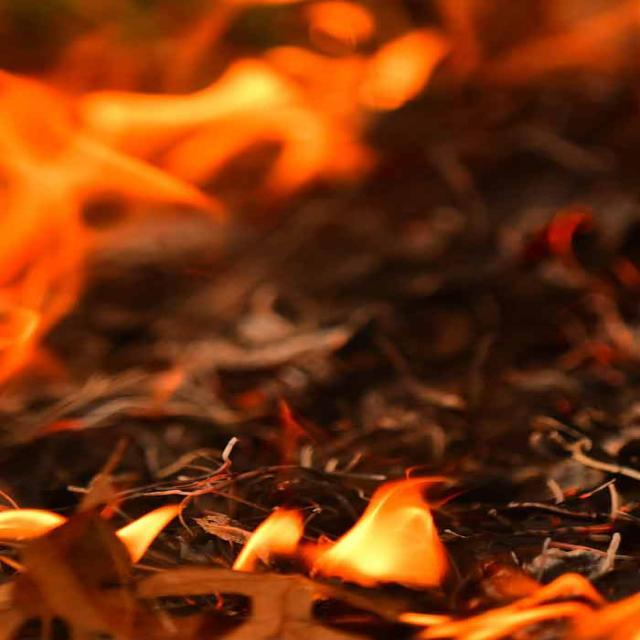Fire: (4, 62, 388, 220), (286, 493, 462, 591), (0, 222, 66, 363)
